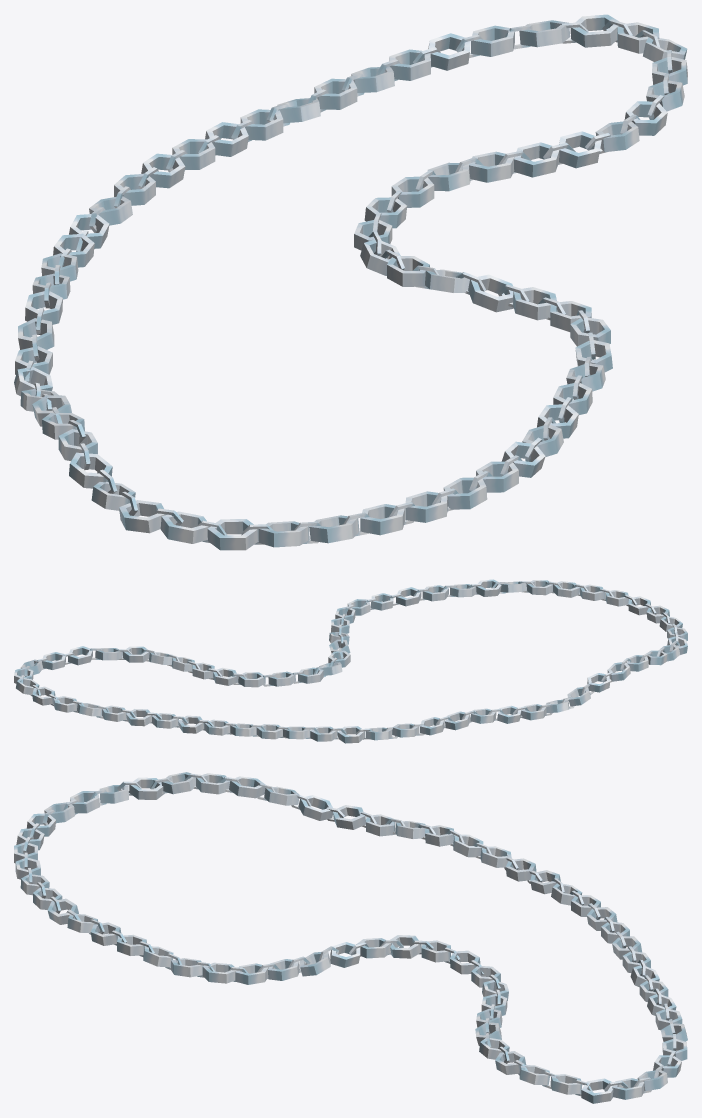
The model's file is chain_004.fbx.
3 renders of one model, top to bottom at view 1: azimuth 30°, elevation 25°; view 2: azimuth 150°, elevation 25°; view 3: azimuth 270°, elevation 25°, orthographic. The views are drawn at different scales.
Parts seen in each view (by area): view 1: chain_004; view 2: chain_004; view 3: chain_004.
Boxes of the visible parts, <box> form: chain_004: <box>14,14,687,550</box>; chain_004: <box>14,579,687,743</box>; chain_004: <box>14,772,687,1103</box>.
Size of the model in its own units: 26 by 1.28 by 23.85.
